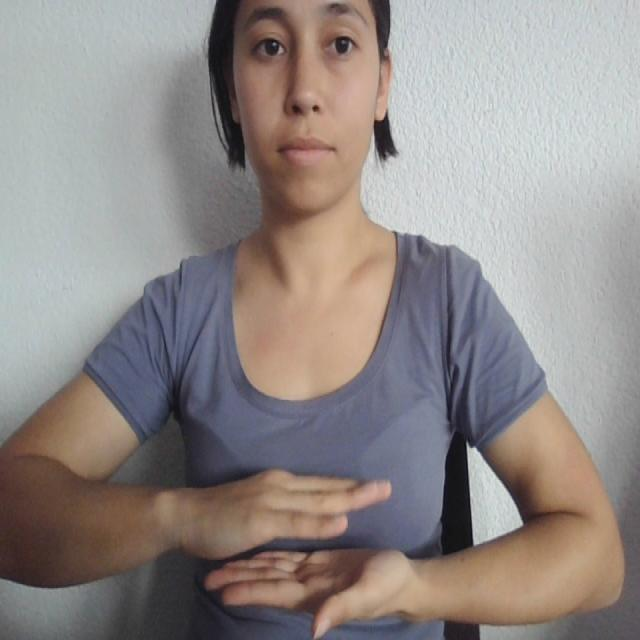Arkadas: (66, 465, 568, 640)
